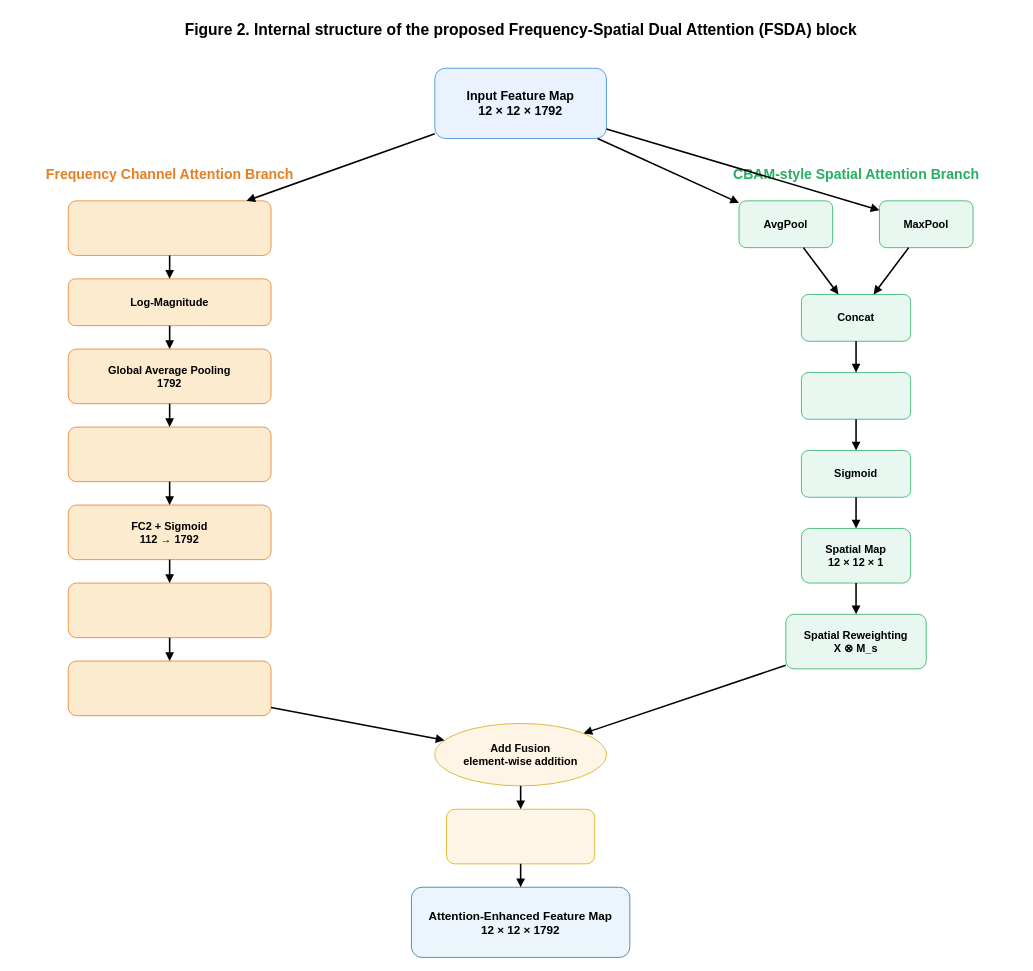
Image size: 1033x971. Some labels were removed from this diagram. Here are the shapes that lost their labels. From the top down, the box of each, then its label:
(67, 200, 271, 255): 2D FFT channel-wise frequency transform
(801, 372, 911, 419): Conv 7 × 7
(67, 426, 271, 482): FC1 + ReLU 1792 → 112
(67, 582, 271, 638): Channel Weights 1 × 1 × 1792
(67, 660, 271, 716): Channel Reweighting X ⊗ M_c
(446, 808, 595, 864): Batch Normalization
